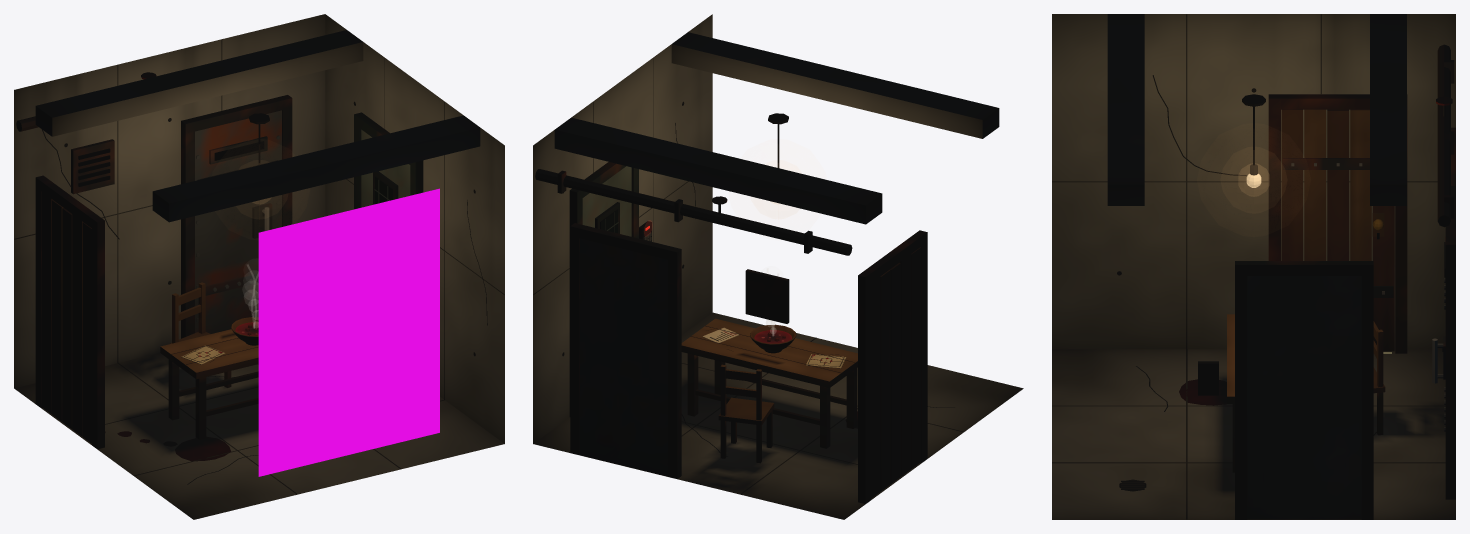
File: poison-soup-room.glb
The picture shows the model from 3 angles, left to right: view 1: azimuth 30°, elevation 25°; view 2: azimuth 150°, elevation 25°; view 3: azimuth 270°, elevation 25°; orthographic projection. The views are drawn at different scales.
Visible parts, largest first — view 1: Window, WallBackSurface, WallRightSurface, FloorSurface, Beam1, Beam0, Slab (×2), FrameL (×2), TableTop, FrameR (×2), FrameTop (×2), Plank1 (+7 smaller); view 2: WallRightSurface, FloorSurface, Slab (×2), Beam1, Beam0, FrameL (×3), FrameR (×2), TableTop, Pipe, FrameTop (×3), Plank0, Plank3 (+7 smaller); view 3: WallLeftSurface, FloorSurface, Slab, FrameR (×3), Beam0, Beam1, FrameL (×2), FrameTop (×2), Plank0, Plank1, Plank2, Plank3 (+9 smaller).
Part boxes in pixels (x1,y1,x2,y2): Window: [258, 188, 439, 476]; WallBackSurface: [14, 14, 325, 388]; WallRightSurface: [325, 14, 504, 443]; FloorSurface: [14, 353, 504, 519]; Beam1: [35, 30, 363, 136]; Beam0: [152, 115, 480, 222]; Slab (×2): [195, 110, 410, 333]; FrameL (×2): [92, 118, 194, 449]; TableTop: [160, 329, 258, 379]; FrameR (×2): [35, 95, 292, 407]; FrameTop (×2): [35, 97, 292, 231]; Plank1: [72, 214, 82, 436]; WallRightSurface: [533, 14, 712, 443]; FloorSurface: [533, 312, 1023, 519]; Slab (×2): [580, 166, 667, 476]; Beam1: [554, 117, 882, 224]; Beam0: [671, 32, 999, 138]; FrameL (×3): [569, 188, 927, 478]; FrameR (×2): [570, 223, 871, 503]; TableTop: [681, 318, 857, 387]; Pipe: [535, 169, 852, 255]; FrameTop (×3): [569, 162, 927, 286]; Plank0: [911, 247, 921, 468]; Plank3: [880, 269, 890, 490]; WallLeftSurface: [1052, 14, 1455, 349]; FloorSurface: [1052, 349, 1455, 519]; Slab: [1247, 276, 1361, 519]; FrameR (×3): [1235, 94, 1455, 519]; Beam0: [1107, 14, 1144, 205]; Beam1: [1370, 14, 1406, 205]; FrameL (×2): [1268, 94, 1373, 519]; FrameTop (×2): [1235, 94, 1407, 275]; Plank0: [1281, 109, 1302, 260]; Plank1: [1304, 109, 1325, 260]; Plank2: [1327, 109, 1348, 260]; Plank3: [1350, 109, 1371, 260].
Size of the model in its own units: 1.2 by 1.1 by 1.2.
